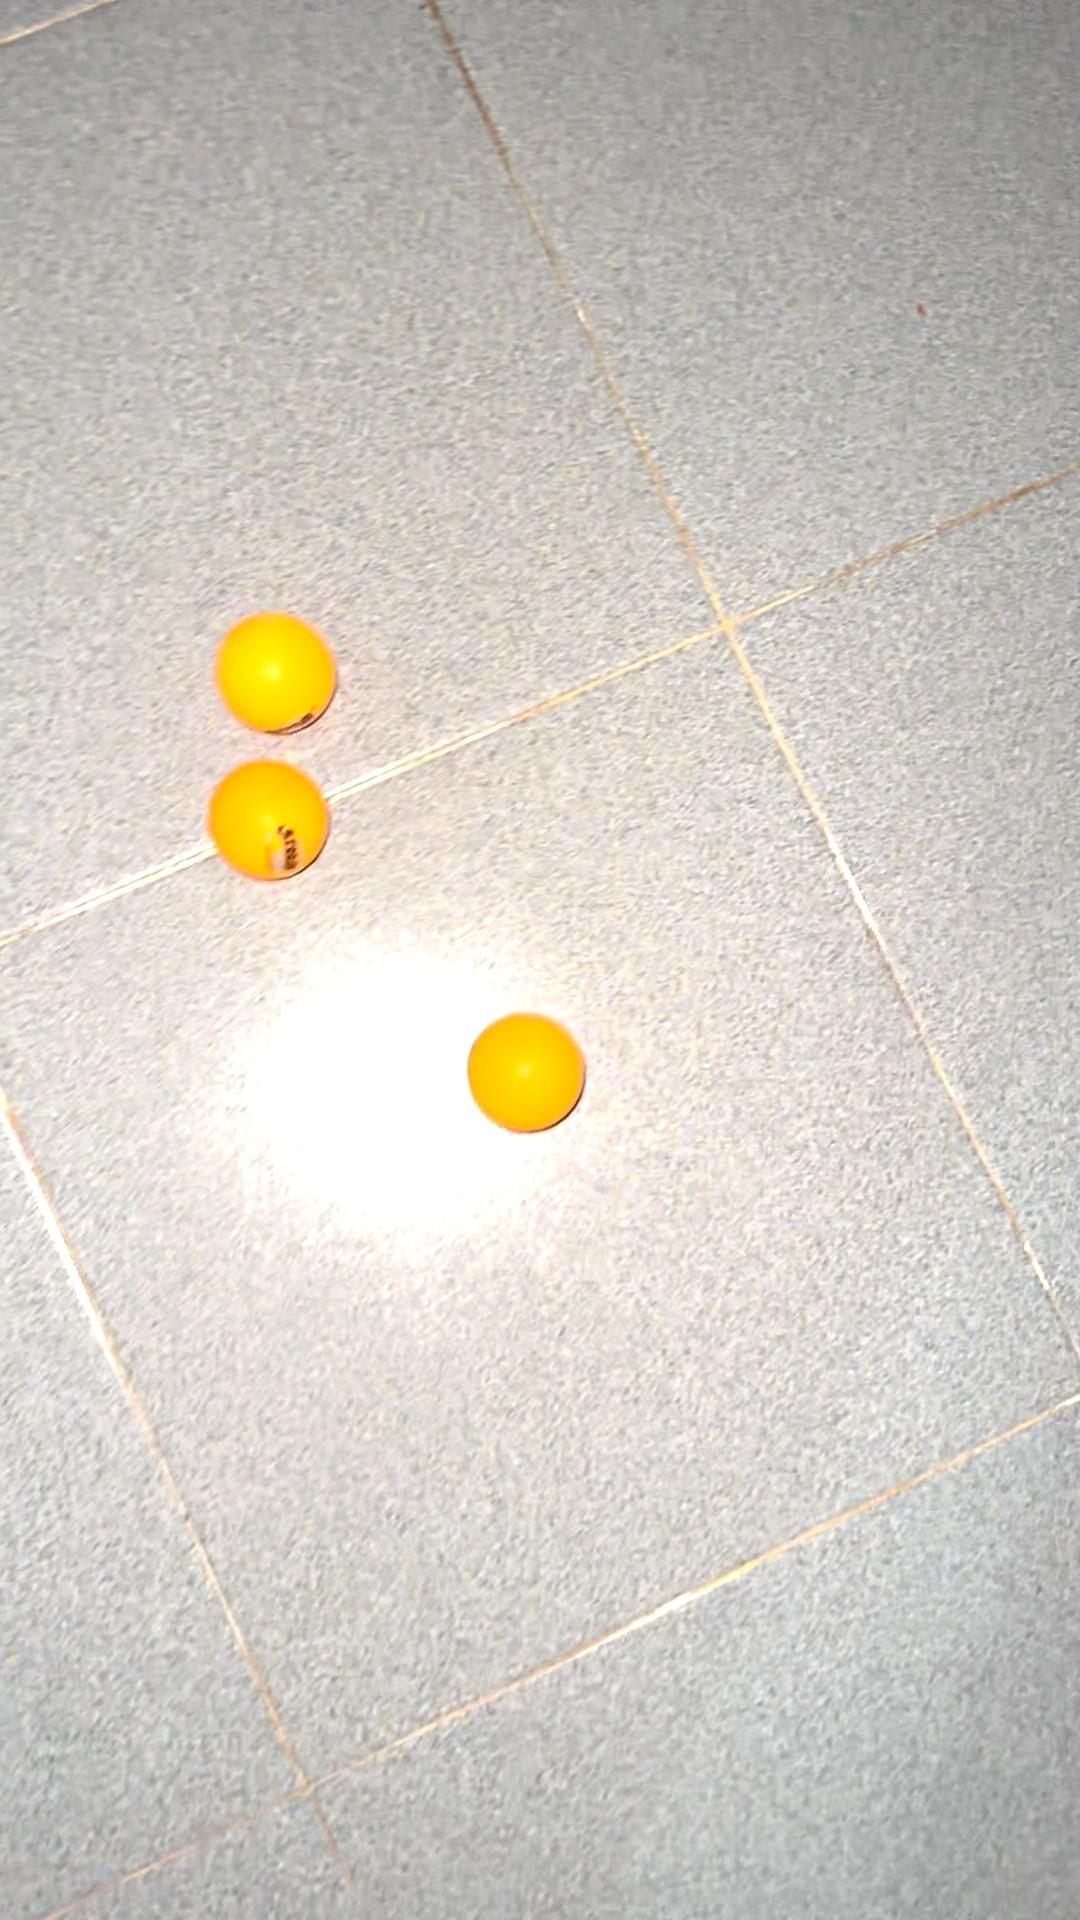oball: (208, 604, 352, 737), (199, 754, 344, 877), (464, 1007, 597, 1135)
